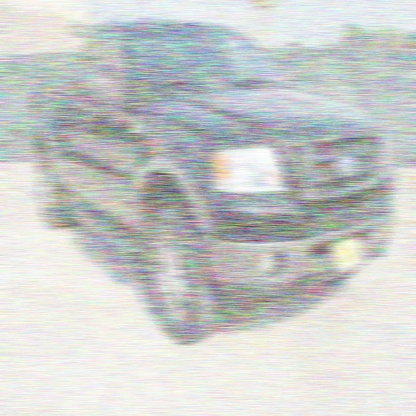Vehicle: (25, 16, 398, 350)
